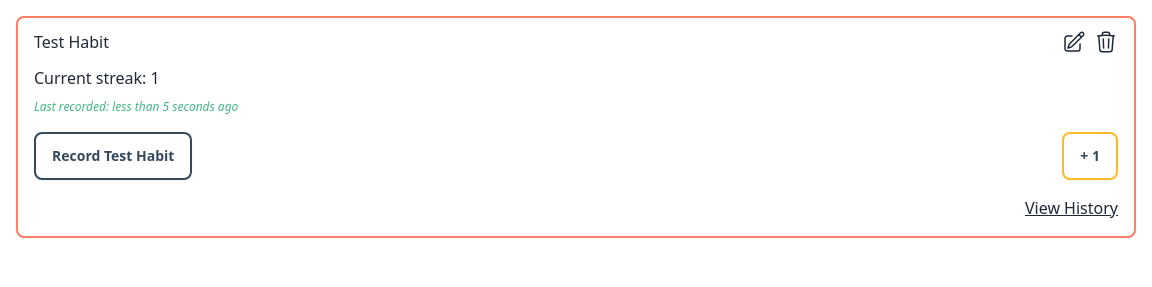
Scenario: HabitItem › should show an error message when the tries to record another enactment in the same day
The image size is (1152, 287).
Note: WHEN the user clicks on the record enactment button a second time in the same day
Click the button "Record Test Habit". click: (113, 156)
box: [34,132,192,180]
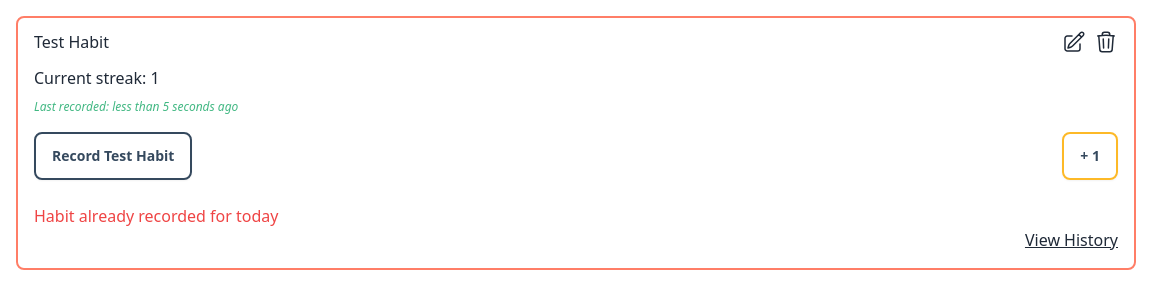
Now the text "Habit already recorded for today" is shown, box [34,205,278,227]
